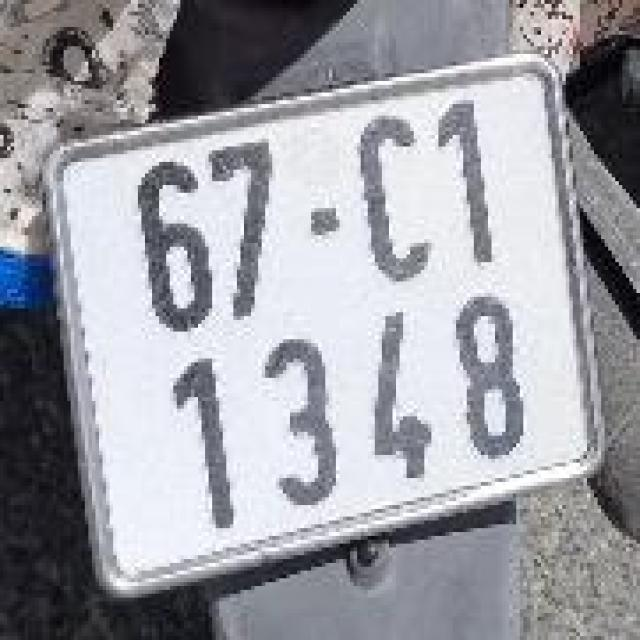1: (151, 343, 249, 551), (431, 93, 501, 279)
3: (250, 325, 351, 522)
4: (352, 299, 447, 496)
6: (123, 148, 224, 349)
7: (197, 133, 303, 334)
8: (441, 280, 541, 474)
C: (345, 101, 445, 295)
